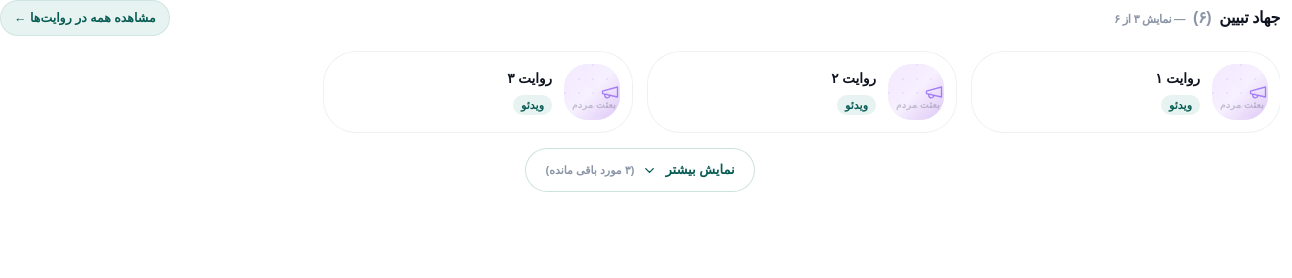
Scenario: SearchGroupSection — «نمایش بیشتر» در همان صفحه › کلیک → واکشیِ صفحه‌ی ۲ و چسبیدنِ نتایج؛ سرِ فهرست → پیامِ پایانی
Click the button "نمایش بیشتر (۳ مورد باقی مانده)": {"x": 640, "y": 170} 526,148 -> 754,192
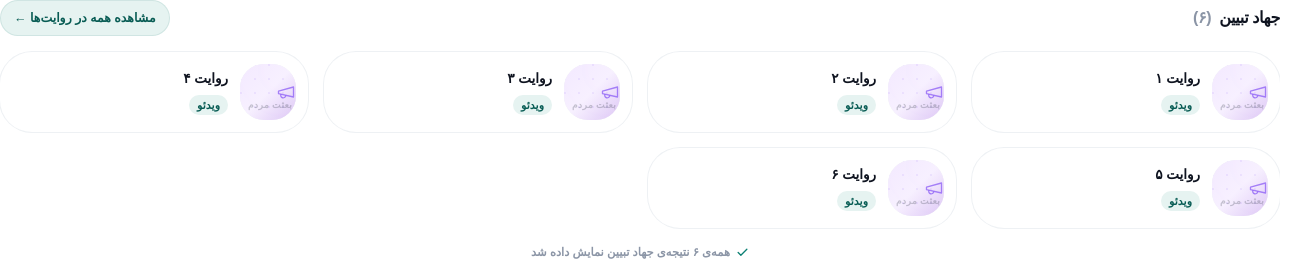
Check: the text "روایت ۶" is shown, box 831,167 -> 876,182
Check: the button "نمایش بیشتر" is gone
Check: the text "همه‌ی ۶ نتیجه‌ی جهاد تبیین نمایش داده شد" is shown, box 531,244 -> 749,261
